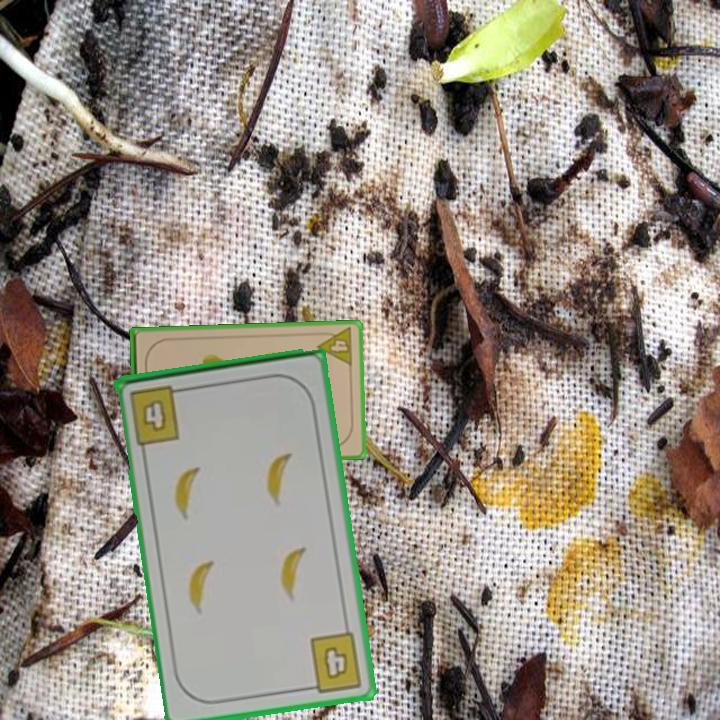4b: (301, 628, 366, 695), (126, 381, 189, 448)
4p: (314, 324, 356, 369)
